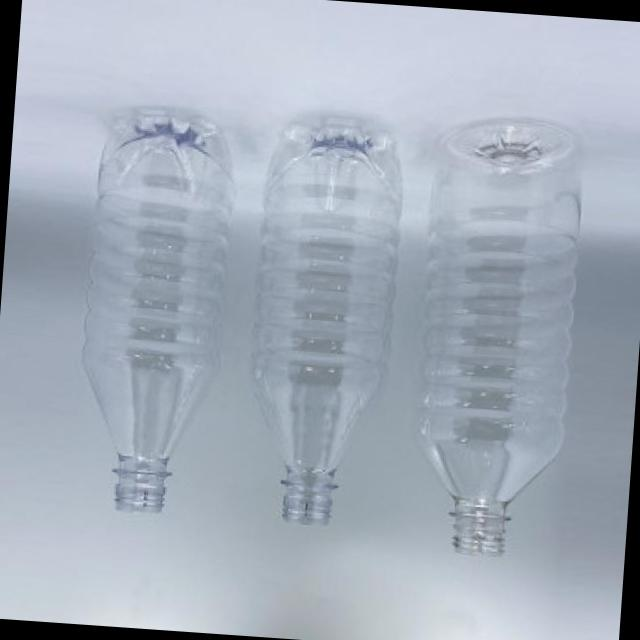plastic_bottle: (398, 115, 592, 560), (231, 111, 410, 530), (71, 104, 235, 518)
